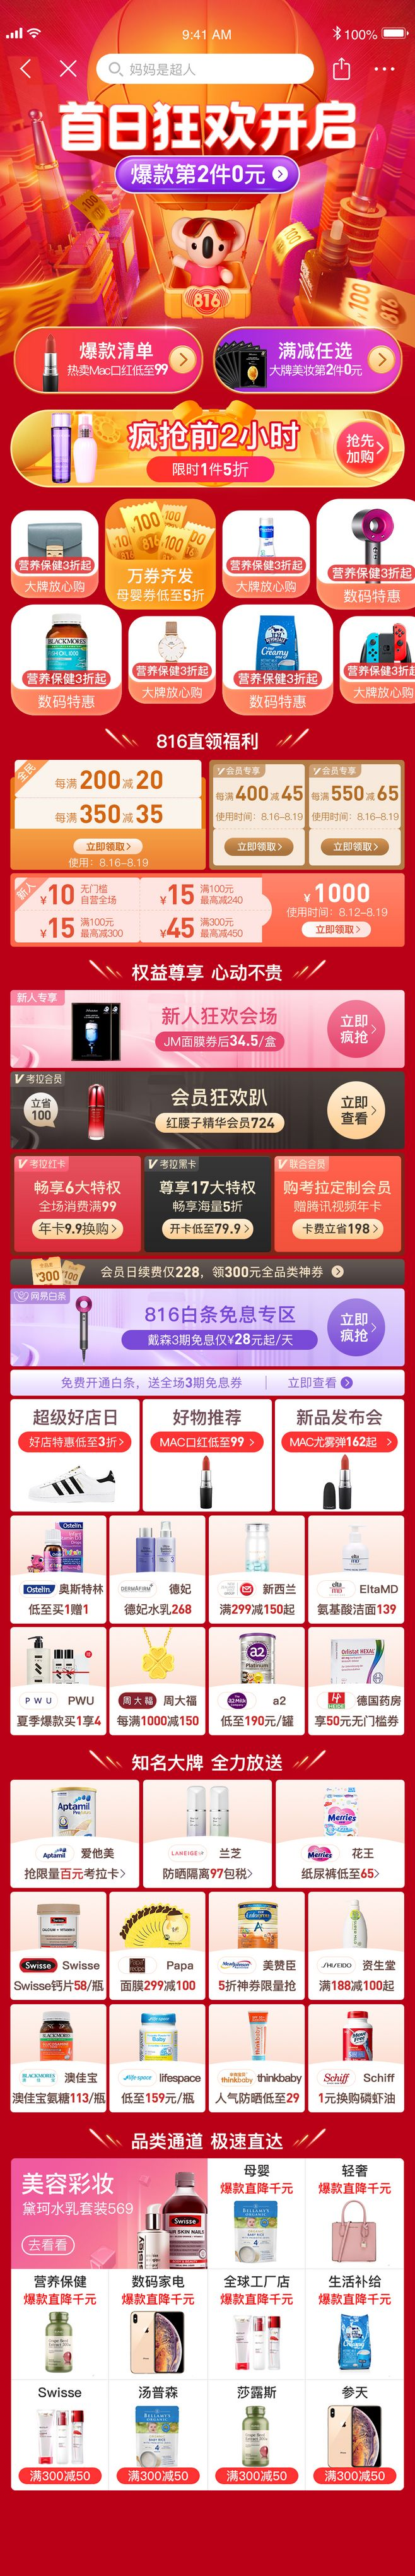floors: (0, 956, 415, 1740), (0, 2123, 415, 2497), (0, 1745, 415, 2114), (0, 724, 415, 950), (0, 496, 415, 720)
toutu: (0, 0, 415, 490)
